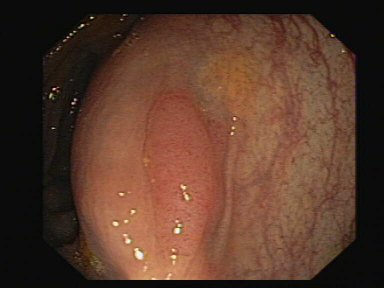polyp: (114, 94, 247, 257)
